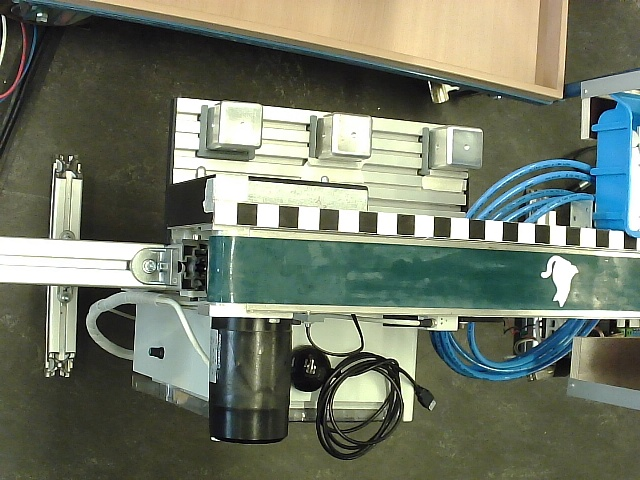cat: (540, 255, 579, 307)
